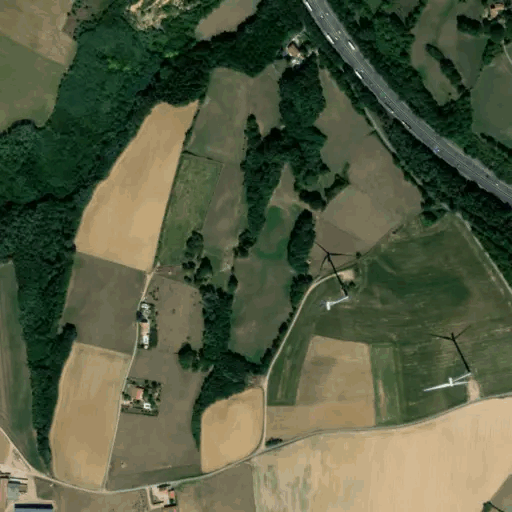wt: (419, 316, 482, 400), (306, 237, 363, 316)
